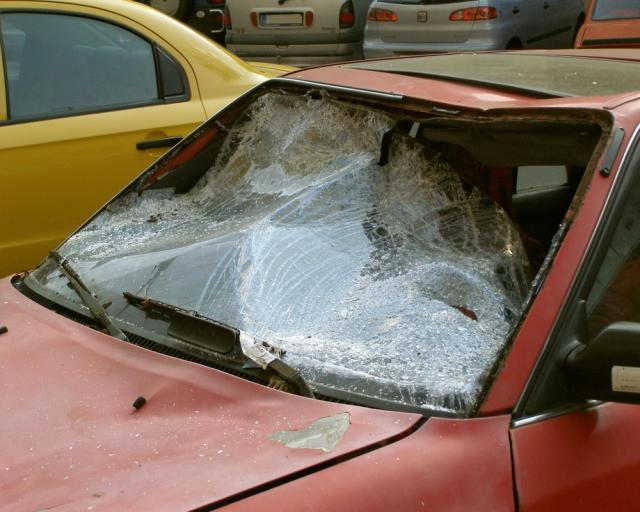dent: (8, 326, 395, 497), (470, 88, 552, 112)
glass shatter: (33, 86, 604, 415)
